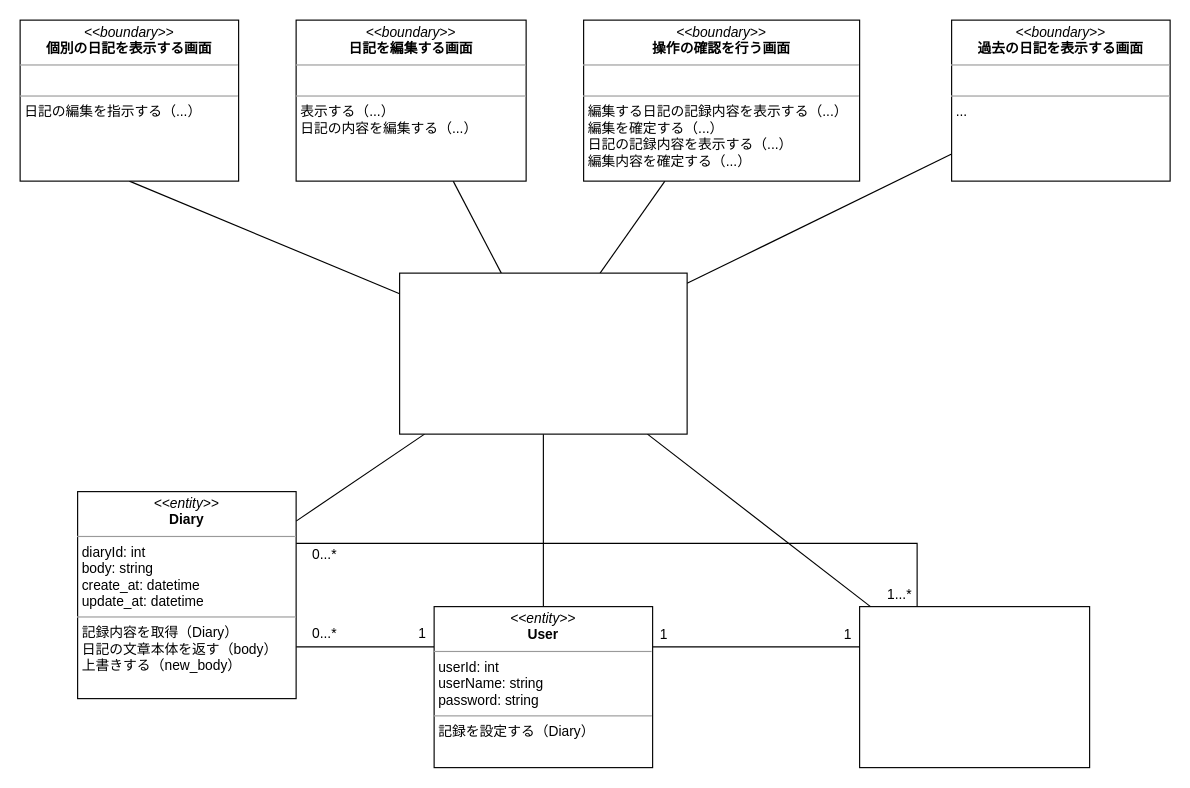
Image size: 1190x788. Some labels were removed from this diagram. Each missing label, with the centre of its shape:
<<control>> 日記記録管理 編集する日記の記録内容を確認する（Diary） 記録内容を確認する（new_body） 記録する（new_body）: (542,353)
<<entity>> タイムライン 制限文字数 制限文字数を確認する（new_body） 記録を設定する（Diary）: (974,686)
